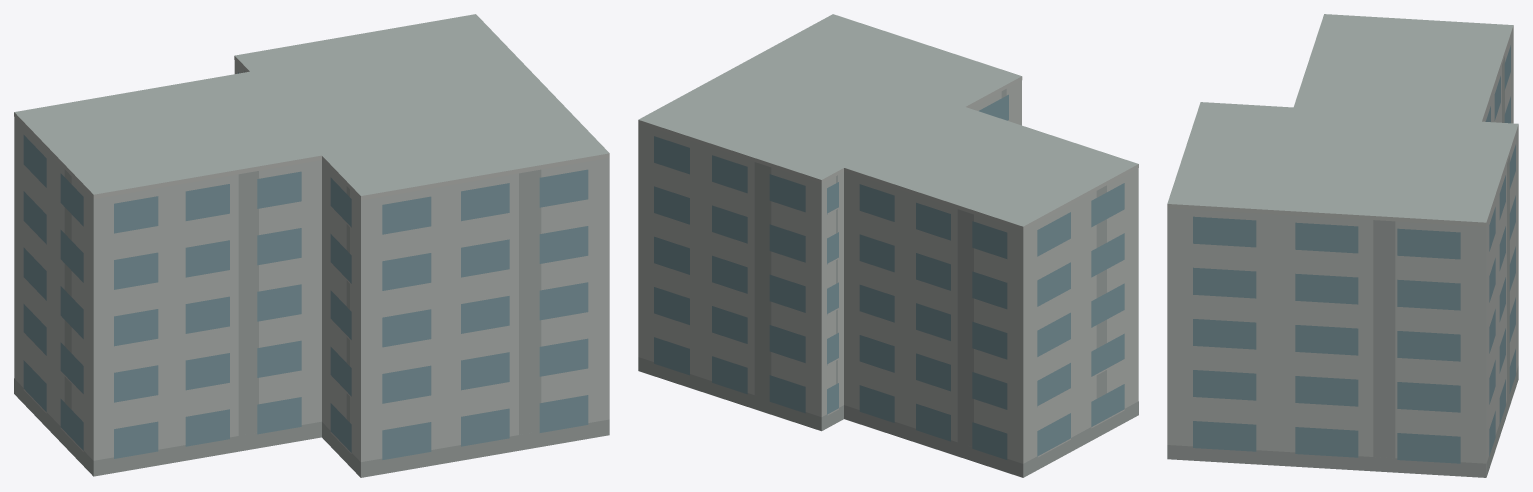
The model's file is residential-785e9c7f-ec2d-4d04-ab68-3acba80a1003.glb.
3 renders of one model, left to right at view 1: azimuth 30°, elevation 25°; view 2: azimuth 150°, elevation 25°; view 3: azimuth 270°, elevation 25°, orthographic. The views are drawn at different scales.
Visible parts, largest first — view 1: residential-785e9c7f-ec2d-4d04-ab68-3acba80a1003.tmp; view 2: residential-785e9c7f-ec2d-4d04-ab68-3acba80a1003.tmp; view 3: residential-785e9c7f-ec2d-4d04-ab68-3acba80a1003.tmp.
Part boxes in pixels (x1,y1,x2,y2): residential-785e9c7f-ec2d-4d04-ab68-3acba80a1003.tmp: (14, 14, 609, 477); residential-785e9c7f-ec2d-4d04-ab68-3acba80a1003.tmp: (638, 14, 1138, 477); residential-785e9c7f-ec2d-4d04-ab68-3acba80a1003.tmp: (1167, 14, 1518, 477).
Size of the model in its own units: 26.73 by 15.25 by 19.04.
